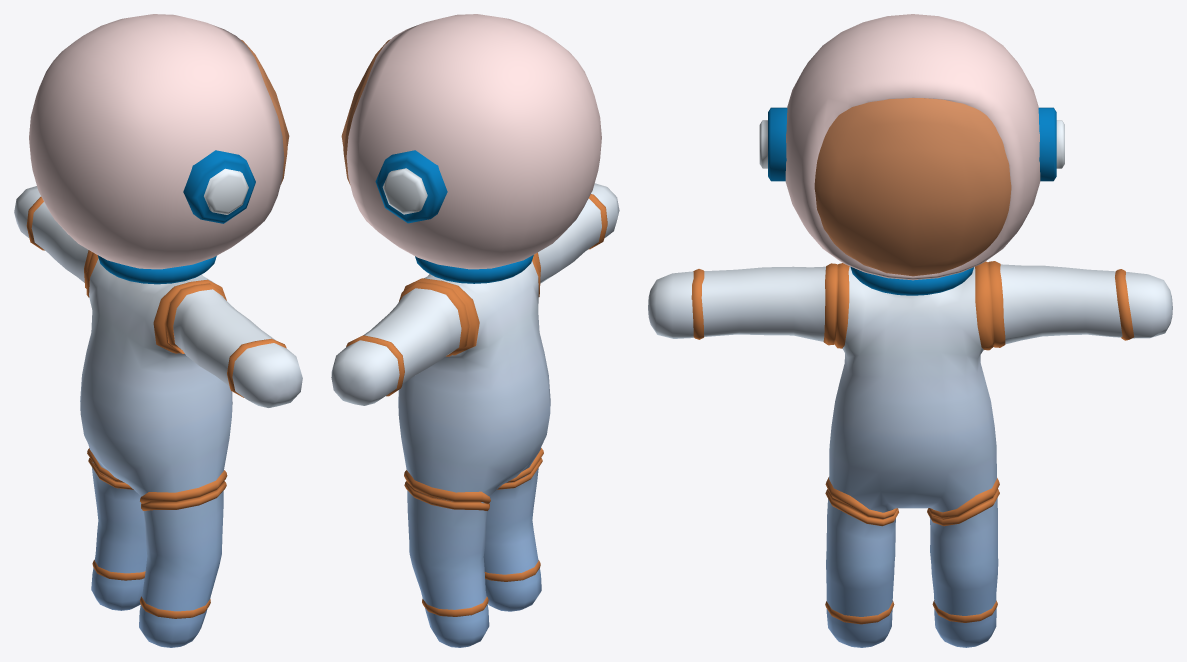
Rendered from Main_Char1 (2).fbx.
The picture shows the model from 3 angles, left to right: view 1: azimuth 30°, elevation 25°; view 2: azimuth 150°, elevation 25°; view 3: azimuth 270°, elevation 25°; orthographic projection. The views are drawn at different scales.
Parts seen in each view (by area): view 1: Hero; view 2: Hero; view 3: Hero.
Boxes of the visible parts, left/top/right/bottom form: Hero: left=14, top=14, right=302, bottom=647; Hero: left=331, top=14, right=619, bottom=647; Hero: left=648, top=14, right=1172, bottom=647.
Bounding box in the file's own units: 48.04 × 122 × 93.23.
